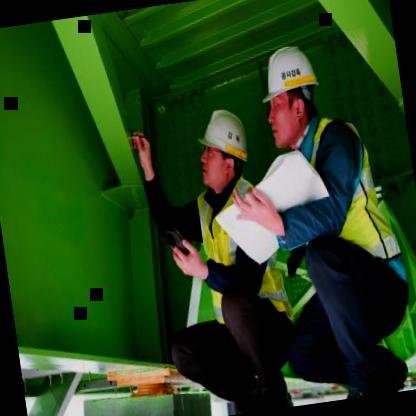helmet: (254, 36, 333, 152), (188, 104, 260, 201)
